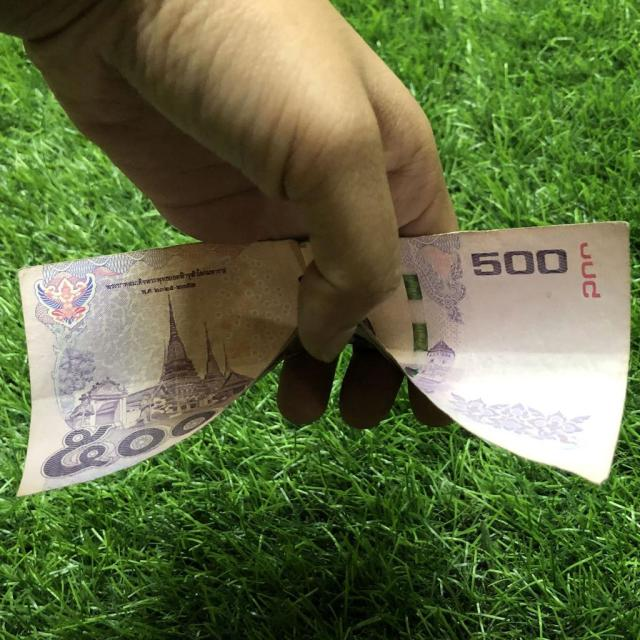THAI500: (18, 239, 312, 495), (350, 221, 630, 483)
